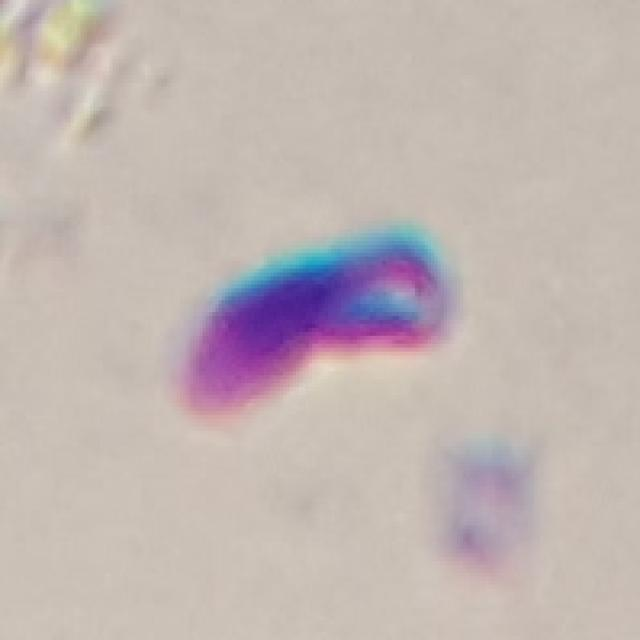abnormal sperm: (134, 203, 459, 430)
